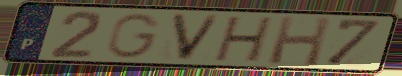2: (49, 9, 107, 60)
7: (328, 17, 384, 68)
G: (105, 12, 164, 60)
H: (266, 15, 334, 68), (210, 15, 277, 64)
V: (168, 12, 225, 63)
